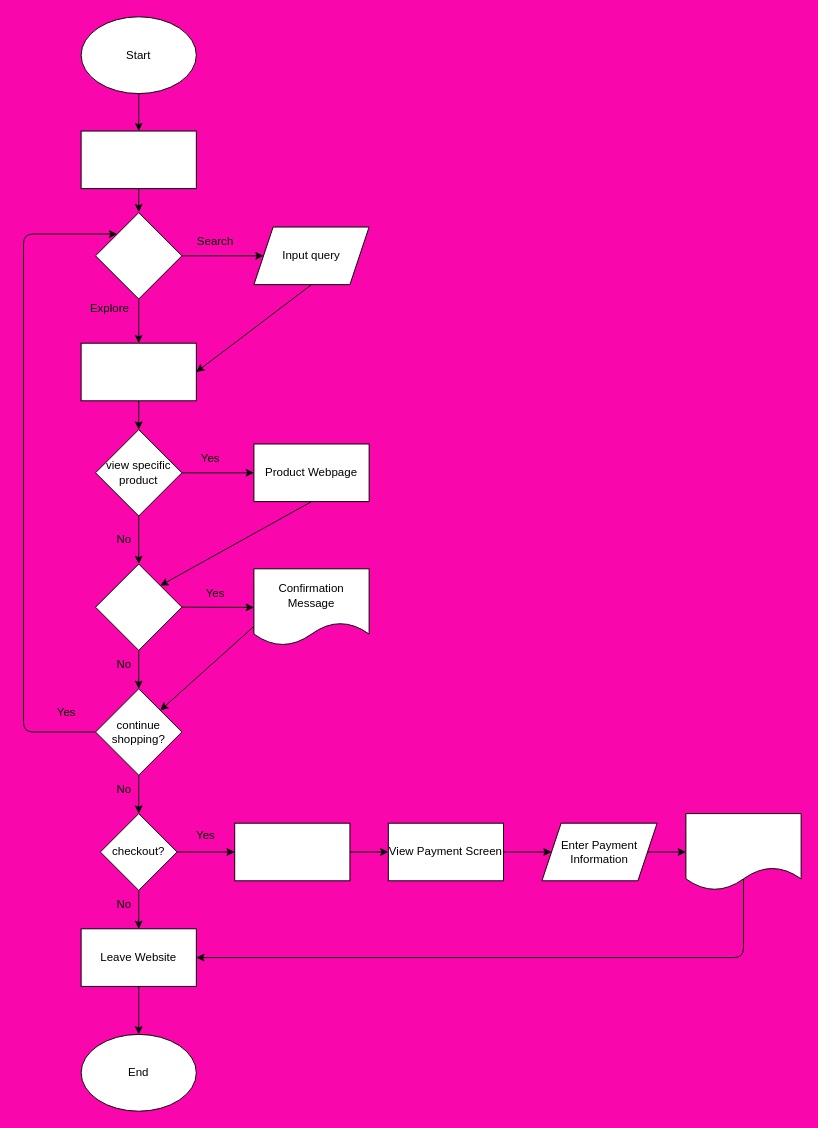
Image size: 818x1128. Some labels were removed from this diagram. Here are the shapes that lost their labels. From the top down, the centre of each, then its label:
the point at 138,159: Enter Webpage
the point at 138,255: search or explore
the point at 138,371: View products
the point at 138,606: add to cart?
the point at 292,851: View Cart Screen
the point at 743,851: Order Confirmation and Email
